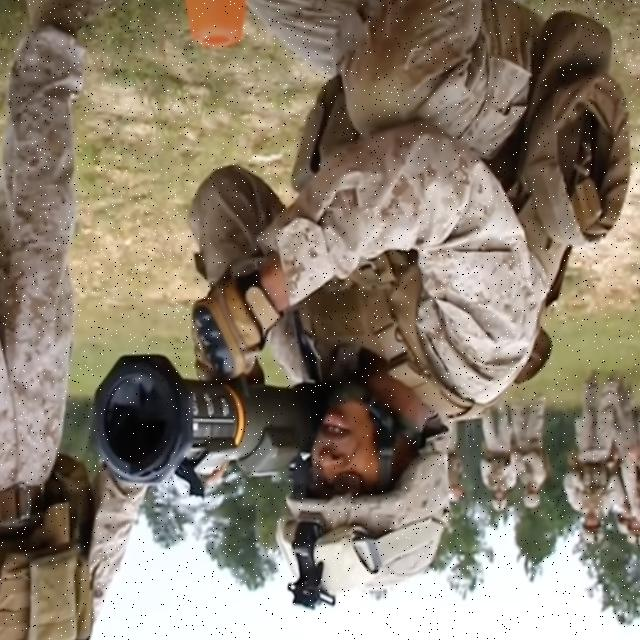bazooka: (75, 331, 338, 511)
